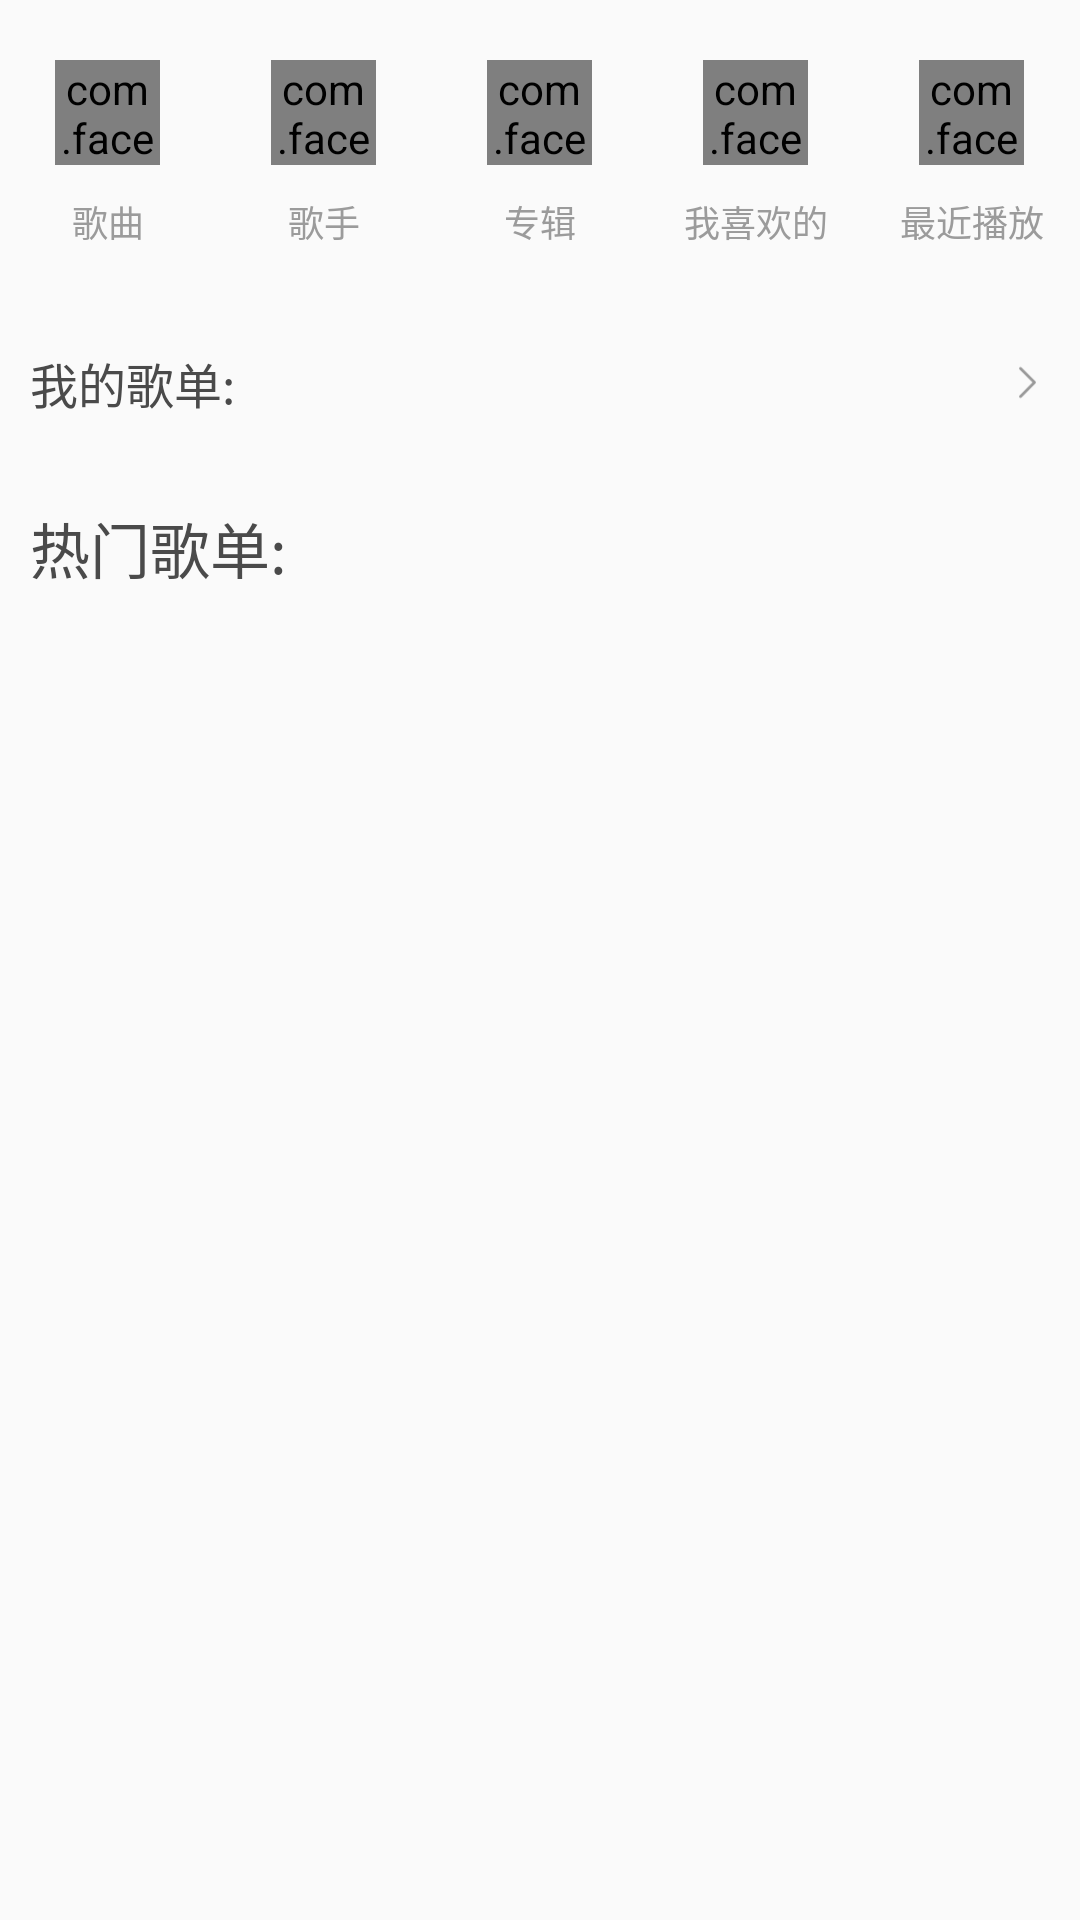

Locate icon controls on the screen. Image size 1080 × 1920, boxes as (x1, y1, x2, y2).
lisong toright: (1019, 367, 1036, 398)
